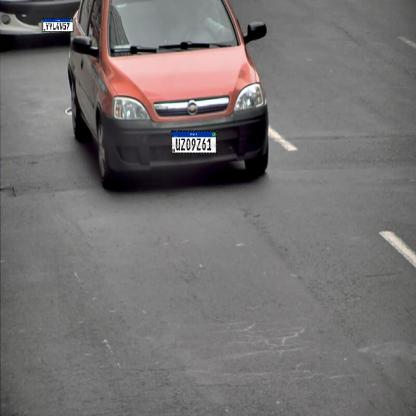PlacaM: (171, 130, 217, 154), (43, 18, 73, 32)
